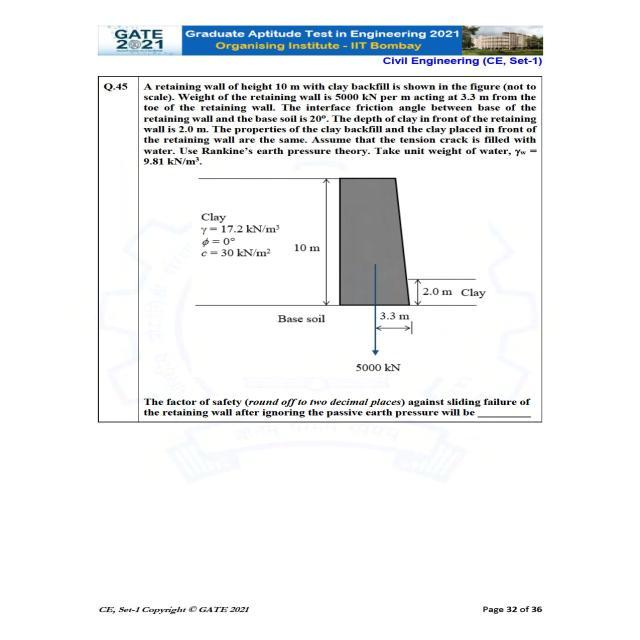Question_Answer_Block: (99, 76, 542, 425)
Question_Block: (98, 74, 540, 423)
Question_Paper_Area: (99, 74, 542, 424)
